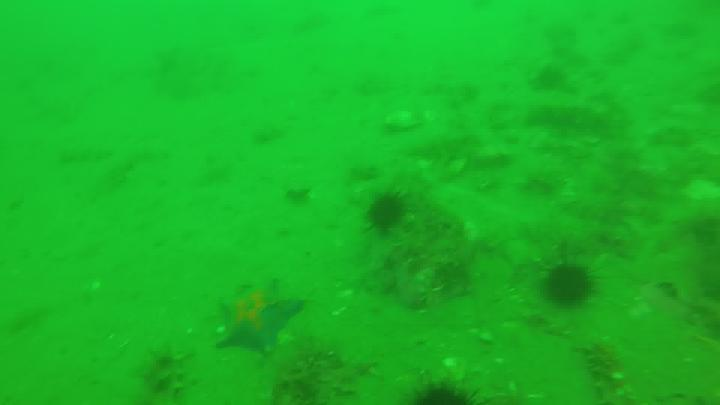echinus: (546, 260, 603, 303), (368, 192, 407, 235), (410, 386, 484, 405)
holothurian: (495, 94, 620, 127), (578, 337, 628, 405), (142, 350, 191, 405)
scallop: (390, 105, 442, 127)
starfish: (209, 274, 305, 355)
